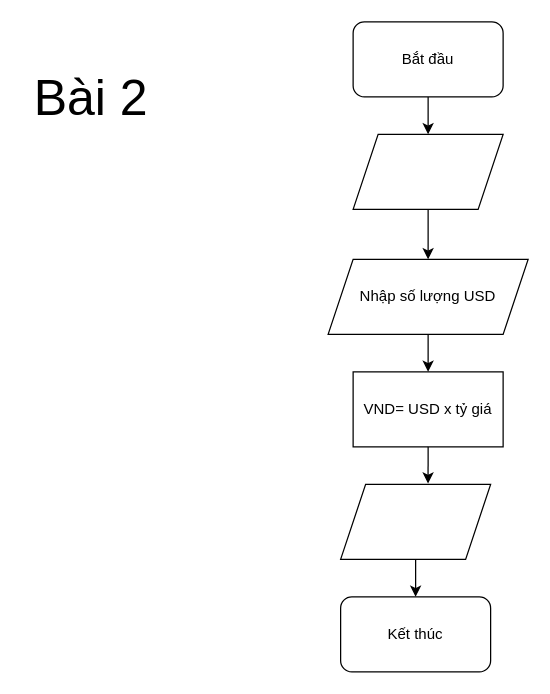
The diagram is 550 pixels wide and 694 high, and some of its shapes have lost their labels. The shapes that lost their labels are listed below. From the top down, each one's centre as x and y in pixels, then its label:
At point (427, 171): "Nhập tỷ giá".
At point (415, 521): "Display VND".
